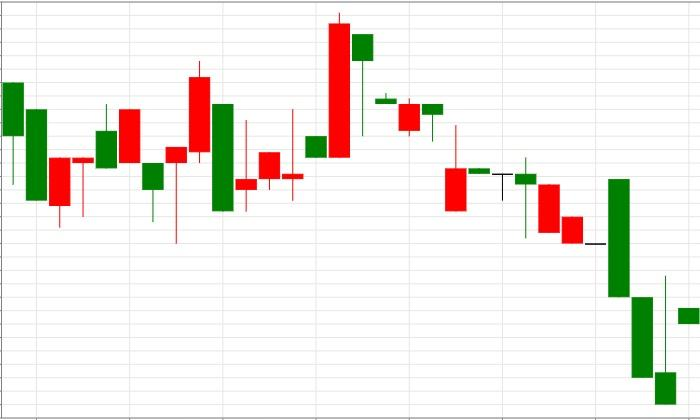hanging_man_fall: (236, 12, 374, 211)
inverse_hammer_rise: (514, 156, 676, 404)
